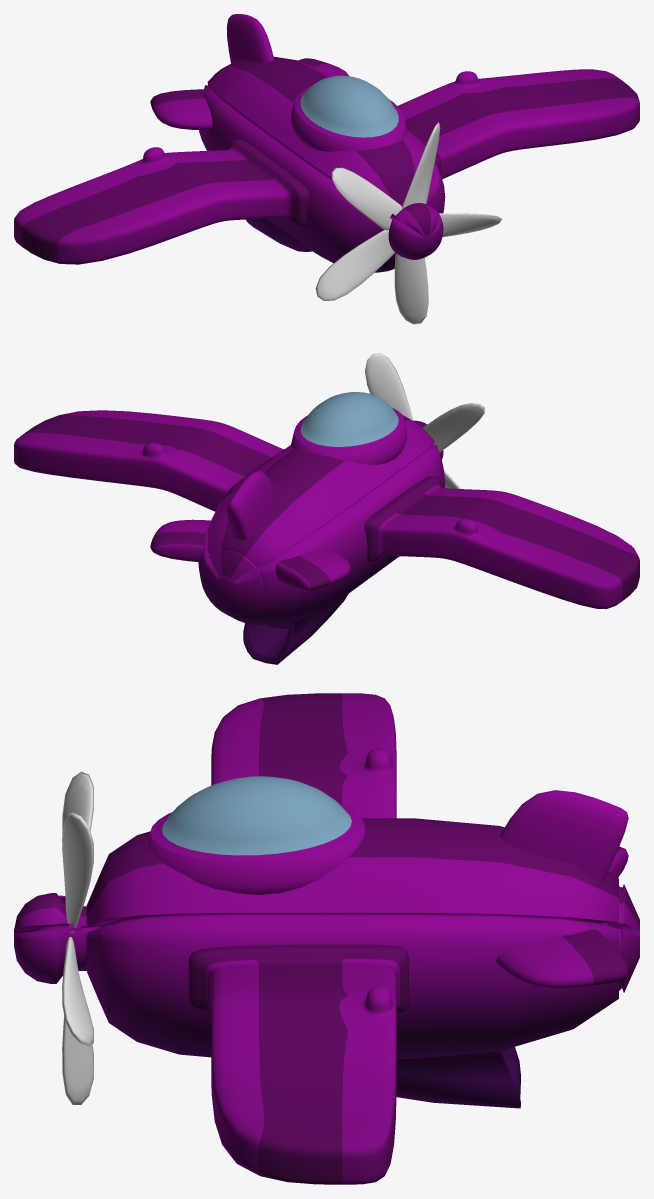
3 renders of one model, top to bottom at view 1: azimuth 30°, elevation 25°; view 2: azimuth 150°, elevation 25°; view 3: azimuth 270°, elevation 25°, orthographic. The views are drawn at different scales.
Parts seen in each view (by area): view 1: Sphere.008, Cube.018; view 2: Sphere.008, Cube.018; view 3: Sphere.008, Cube.018.
Part boxes in pixels (x1,y1,x2,y2): Sphere.008: [14, 14, 639, 272]; Cube.018: [315, 122, 501, 324]; Sphere.008: [14, 392, 639, 664]; Cube.018: [365, 353, 484, 556]; Sphere.008: [14, 693, 639, 1184]; Cube.018: [62, 772, 93, 1104].
Size of the model in its own units: 899 by 291 by 519.
